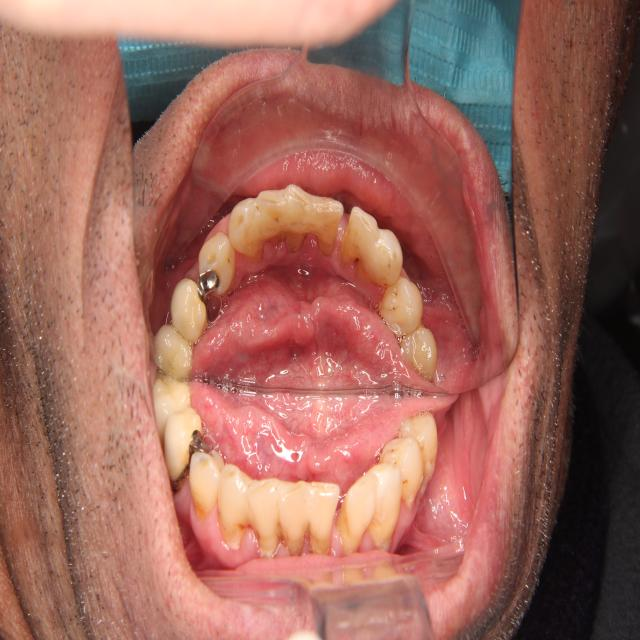tooth: (376, 267, 425, 336), (168, 273, 212, 345), (194, 230, 237, 300), (366, 212, 405, 289), (399, 323, 446, 384), (339, 199, 378, 270), (151, 320, 195, 382), (278, 177, 311, 256), (228, 194, 265, 259), (255, 179, 290, 246), (312, 190, 345, 258)
